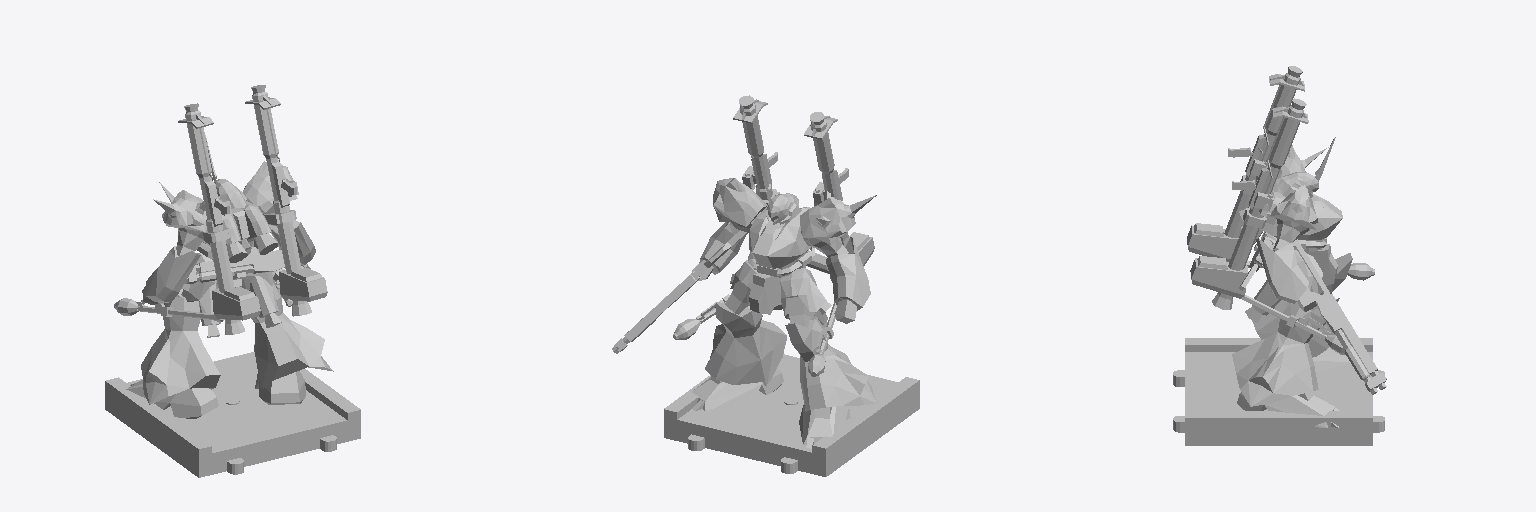
File: Kampfer.obj
3 renders of one model, left to right at view 1: azimuth 30°, elevation 25°; view 2: azimuth 150°, elevation 25°; view 3: azimuth 270°, elevation 25°, orthographic.
Parts seen in each view (by area): view 1: ms_kampfer_MK, small_base_Cube.002_Stand_sep11_auv2.002; view 2: ms_kampfer_MK, small_base_Cube.002_Stand_sep11_auv2.002; view 3: ms_kampfer_MK, small_base_Cube.002_Stand_sep11_auv2.002.
Boxes of the visible parts, x1,y1,x2,y2 form: ms_kampfer_MK: [114, 85, 333, 418]; small_base_Cube.002_Stand_sep11_auv2.002: [105, 344, 360, 477]; ms_kampfer_MK: [612, 95, 876, 448]; small_base_Cube.002_Stand_sep11_auv2.002: [664, 354, 919, 476]; ms_kampfer_MK: [1187, 66, 1386, 427]; small_base_Cube.002_Stand_sep11_auv2.002: [1173, 338, 1384, 445].
Size of the model in its own units: 3.06 by 4.4 by 2.63.